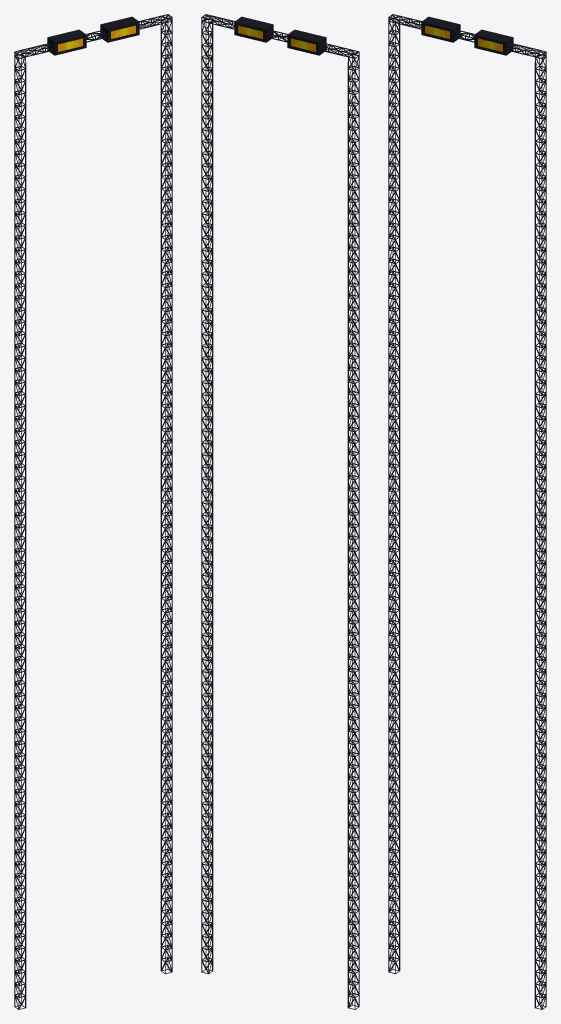
The model's file is test_roadsign.fbx.
3 renders of one model, left to right at view 1: azimuth 30°, elevation 25°; view 2: azimuth 150°, elevation 25°; view 3: azimuth 330°, elevation 25°, orthographic.
Visible parts, largest first — view 1: Cube.055; view 2: Cube.055; view 3: Cube.055.
Part boxes in pixels (x1=…): Cube.055: x1=14, y1=14, x2=172, y2=1009; Cube.055: x1=201, y1=14, x2=359, y2=1009; Cube.055: x1=388, y1=14, x2=546, y2=1009.
Bounding box in the file's own units: 404 × 2408 × 32.52.
